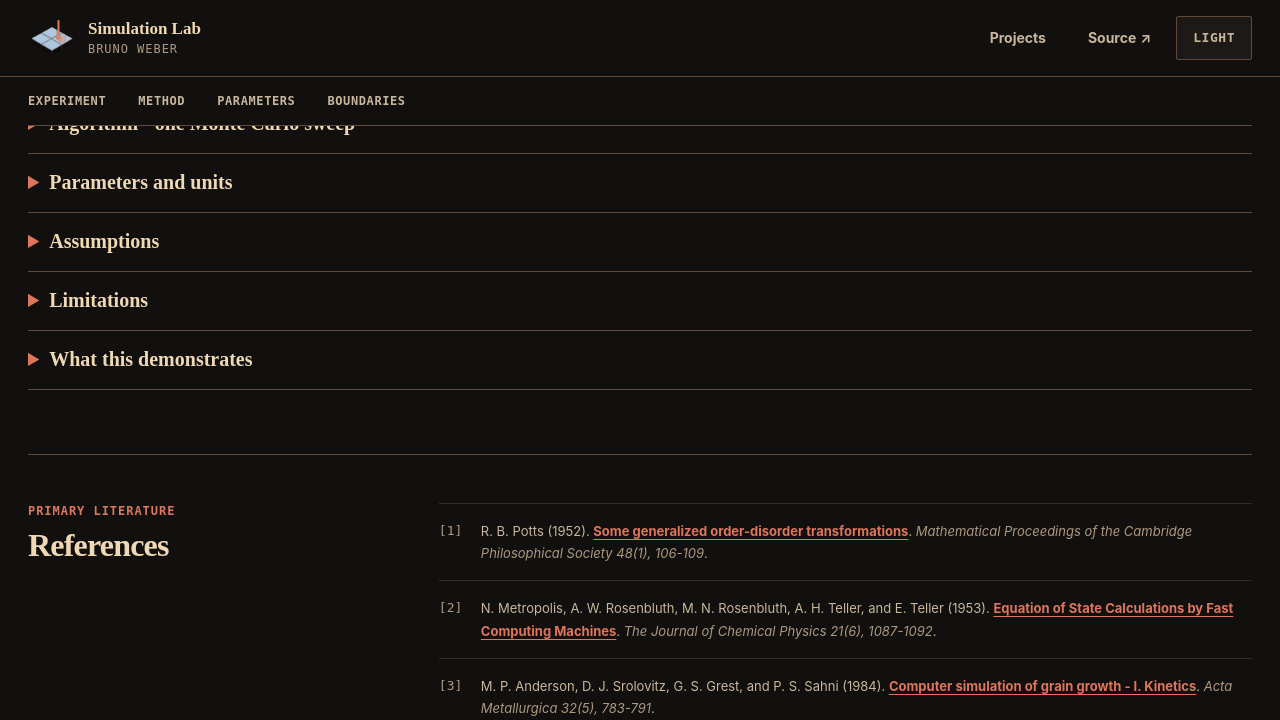
Test case: Bruno Weber - Simulation Lab › keeps the real evidence, references, and navigation in the V5 closing layout
(page scrolled)
Click the heading "What this demonstrates". click: [151, 359]
box: [49,348,252,370]
(page scrolled)
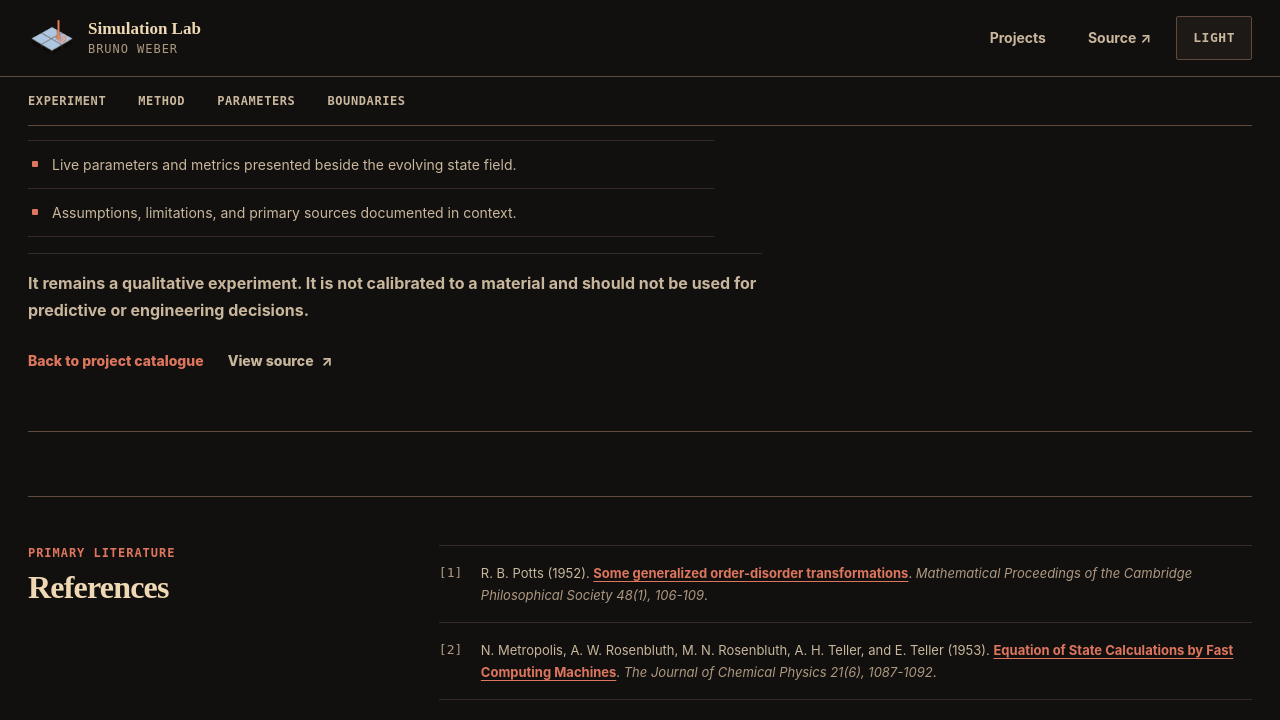
Check: the element "What this demonstrates" shows "not calibrated to a material", box [28,273,756,320]
